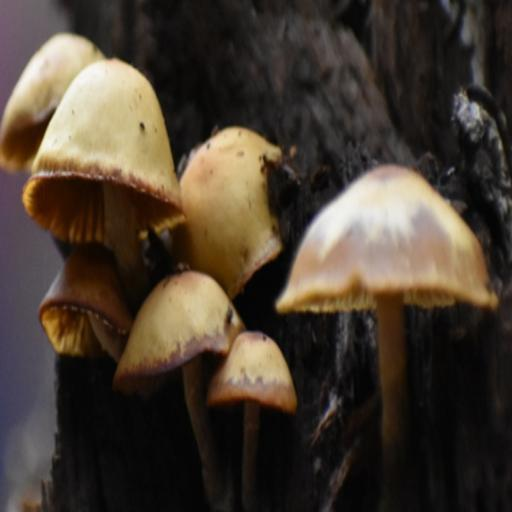mushroom: (9, 28, 497, 443)
